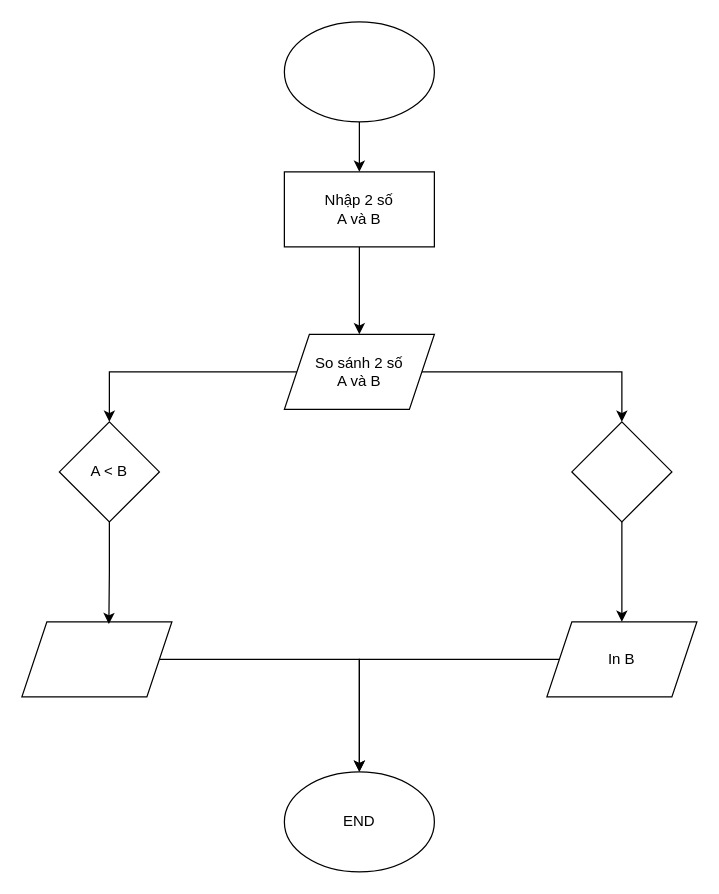
Some shapes in this 719 by 894 pixel diagram are drawn without their labels. The box of each missing label's shape, as (x1, y1, x2, y2) in pixels:
A > B: (571, 421, 672, 522)
In A: (21, 621, 172, 697)
START: (283, 21, 434, 122)
